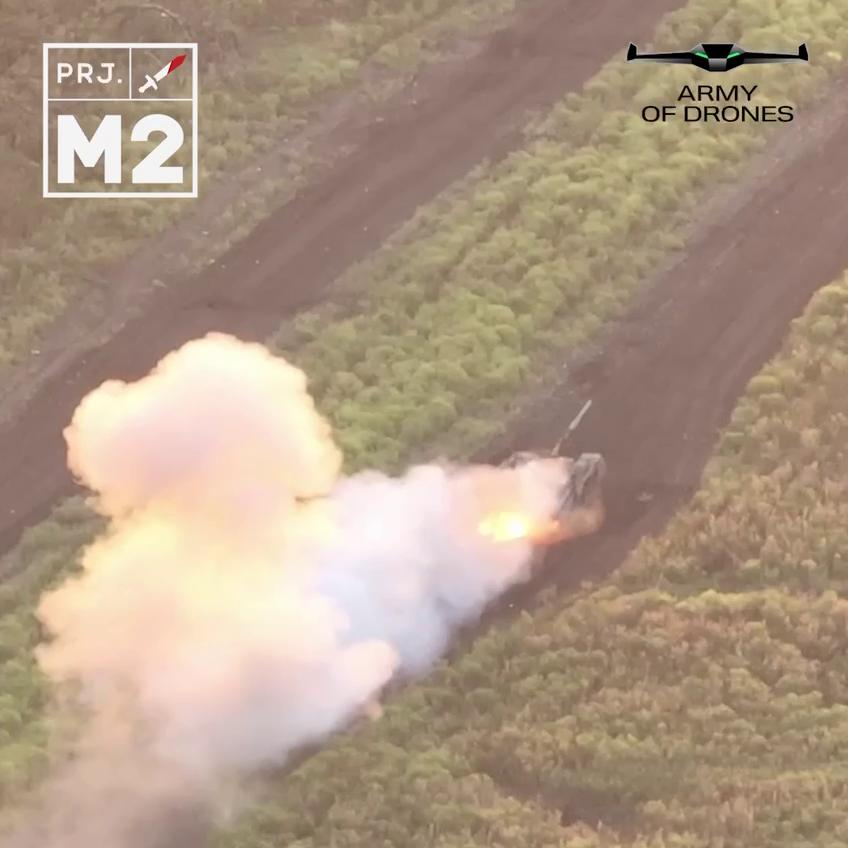tank: (476, 395, 617, 554)
